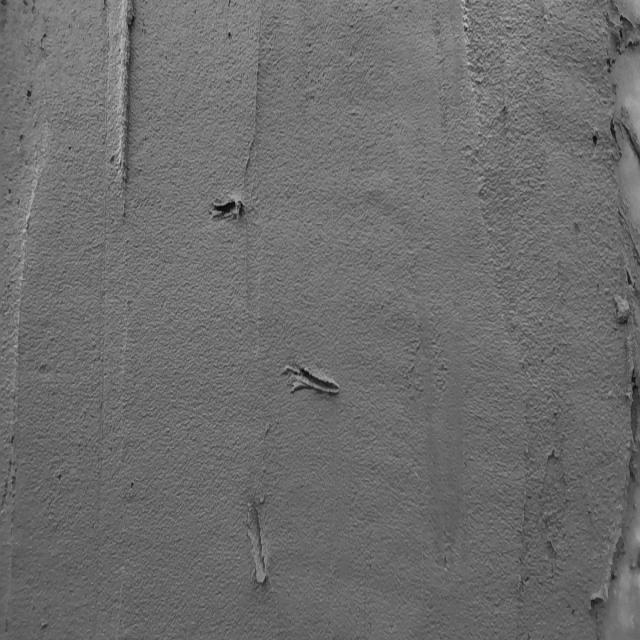trowels marks: (114, 0, 139, 213)
